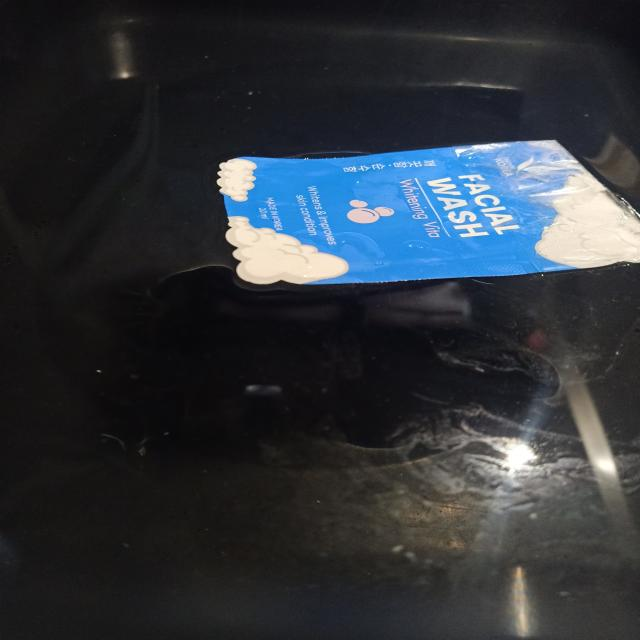Plastic Wrapper: (217, 140, 640, 284)
